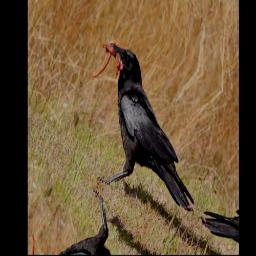Crow: (57, 23, 226, 247)
